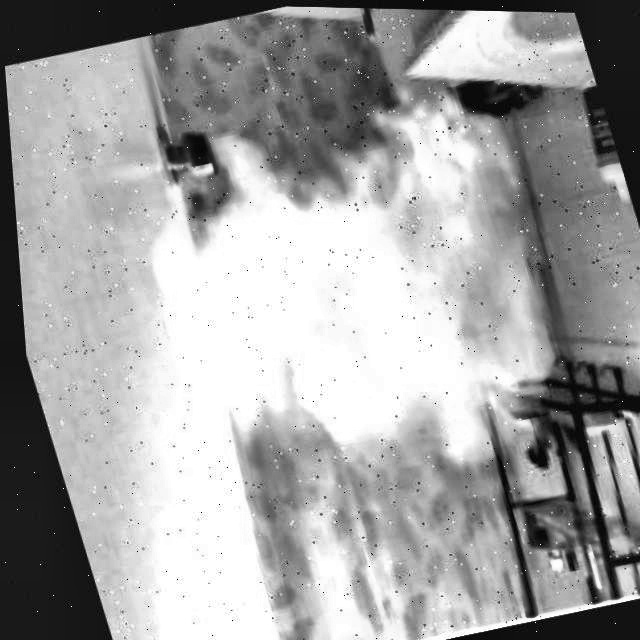Smoke: (91, 68, 601, 501)
